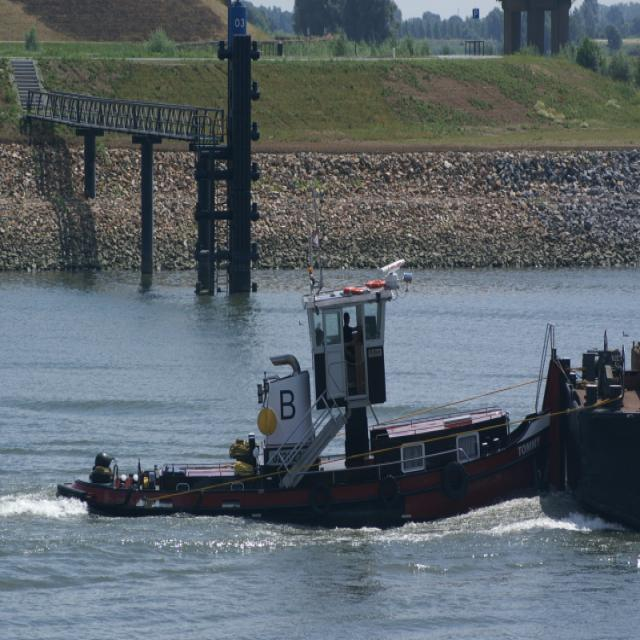tugboat: (52, 255, 582, 545)
